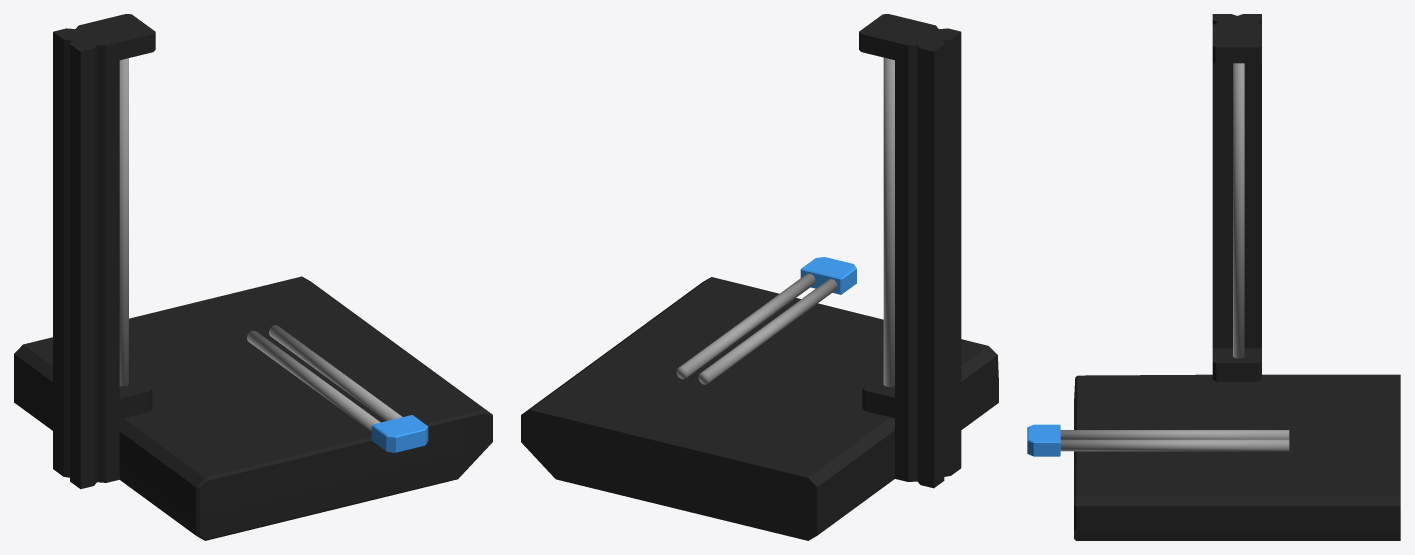
Rendered from printerstaticparts.glb.
The picture shows the model from 3 angles, left to right: view 1: azimuth 30°, elevation 25°; view 2: azimuth 150°, elevation 25°; view 3: azimuth 270°, elevation 25°; orthographic projection. The views are drawn at different scales.
Parts seen in each view (by area): view 1: Printer Frame.001, YAxisCap.001, ZRod, YAxisCap; view 2: Printer Frame.001, YAxisCap.001, ZRod, YAxisCap; view 3: Printer Frame.001, YAxisCap.001, ZRod, YAxisCap.
Part boxes in pixels (left/top/right/bottom): Printer Frame.001: left=14, top=14, right=492, bottom=540; YAxisCap.001: left=247, top=325, right=402, bottom=431; ZRod: left=119, top=58, right=128, bottom=386; YAxisCap: left=371, top=415, right=428, bottom=452; Printer Frame.001: left=521, top=14, right=998, bottom=540; YAxisCap.001: left=676, top=273, right=837, bottom=384; ZRod: left=883, top=57, right=894, bottom=386; YAxisCap: left=800, top=257, right=856, bottom=294; Printer Frame.001: left=1074, top=14, right=1400, bottom=540; YAxisCap.001: left=1060, top=430, right=1289, bottom=451; ZRod: left=1233, top=63, right=1244, bottom=358; YAxisCap: left=1027, top=424, right=1060, bottom=456.
Bounding box in the file's own units: 0.8499 × 1.08 × 0.9188.
